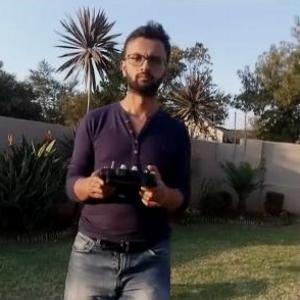follow: (61, 13, 194, 299)
